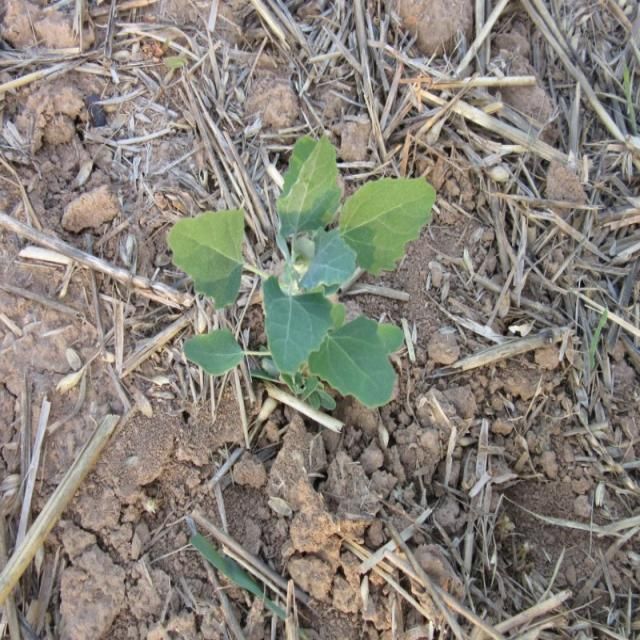ca: (169, 142, 436, 410)
